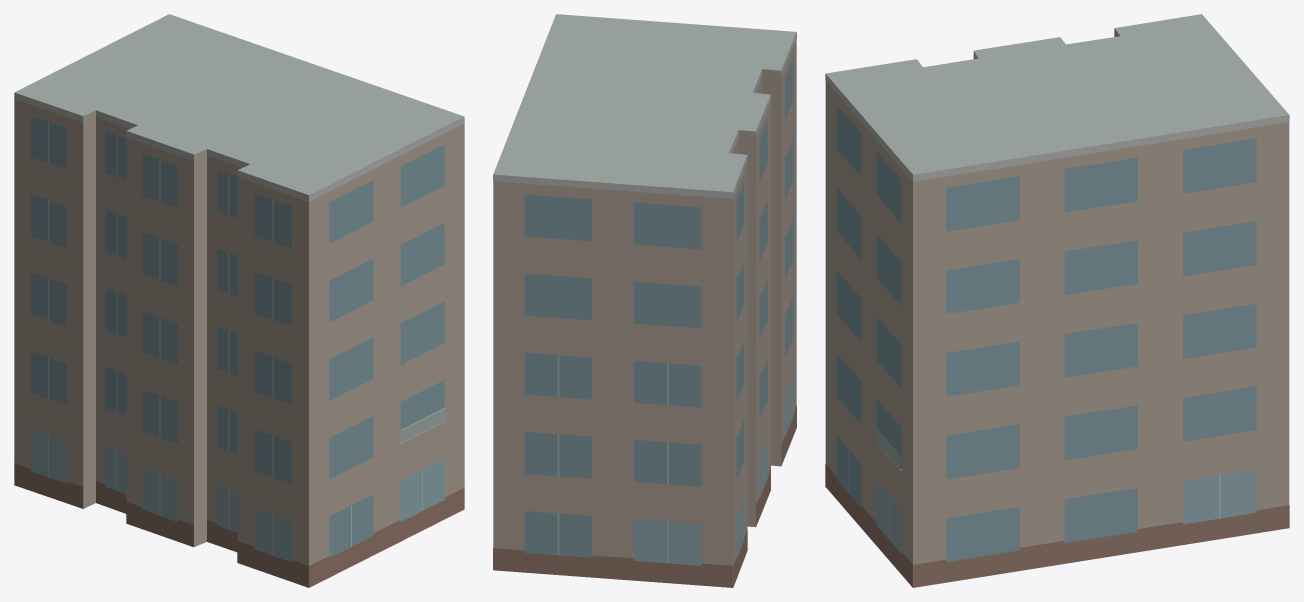
File: survey-upis-32966377.glb
The picture shows the model from 3 angles, left to right: view 1: azimuth 30°, elevation 25°; view 2: azimuth 150°, elevation 25°; view 3: azimuth 270°, elevation 25°; orthographic projection. The views are drawn at different scales.
Visible parts, largest first — view 1: survey-upis-32966377.tmp; view 2: survey-upis-32966377.tmp; view 3: survey-upis-32966377.tmp.
Boxes of the visible parts, x1,y1,x2,y2 form: survey-upis-32966377.tmp: (14,14,464,587); survey-upis-32966377.tmp: (493,14,796,587); survey-upis-32966377.tmp: (825,14,1289,587).
Bounding box in the file's own units: 11.9 × 14.25 × 14.52.
